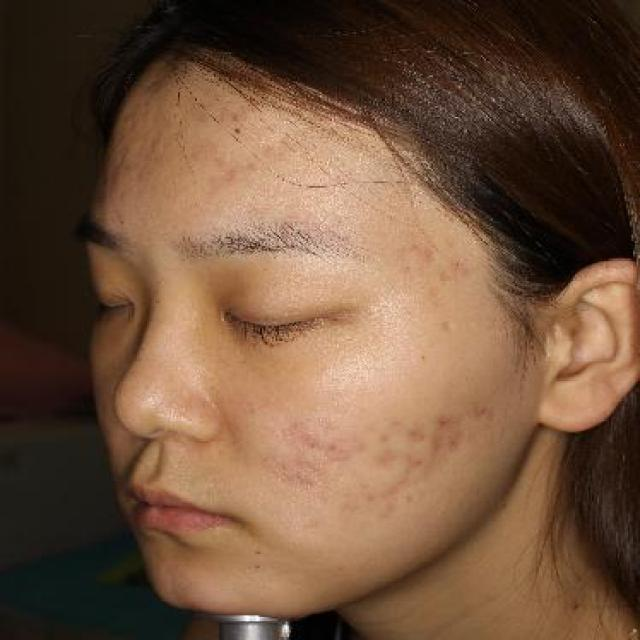dark spot: (431, 409, 455, 429), (402, 425, 428, 443), (424, 437, 450, 454), (443, 434, 462, 449)
